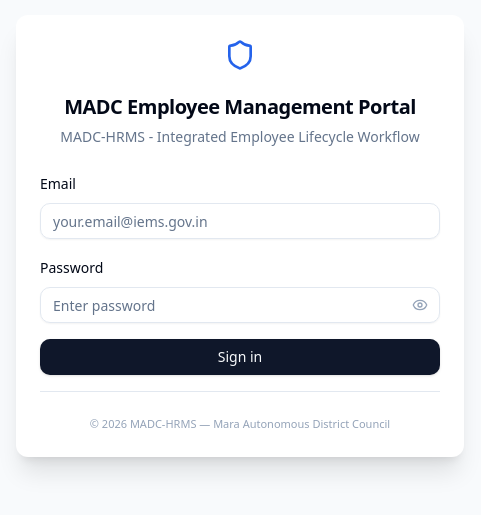
Test case: LoginPage › shows inline required-field errors and does not submit empty credentials
Step 1. Click the button with test id "login-submit-btn" → (240, 357), box [40,339,440,375]
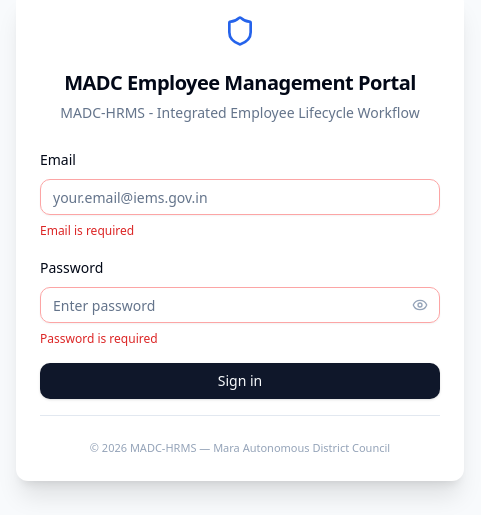
Expected: the text "Email is required" is shown, [40,222,134,239]
Expected: the text "Password is required" is shown, [40,330,158,347]
